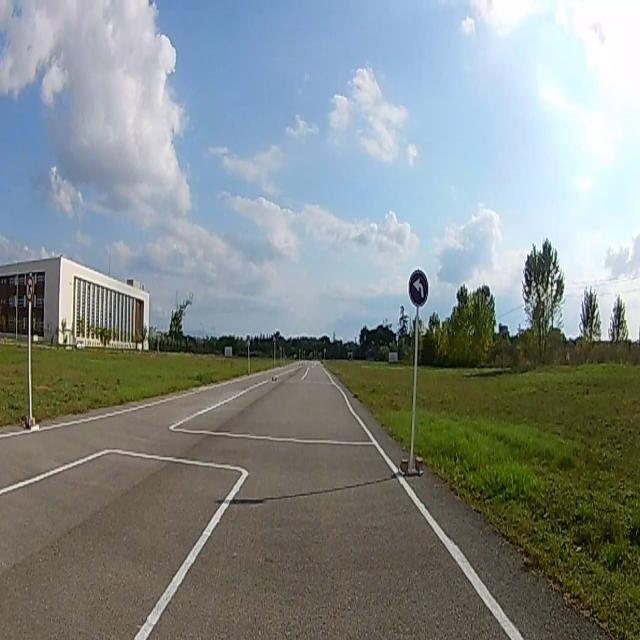sagadonulmez: (26, 278, 34, 299)
sol: (409, 271, 428, 306)
